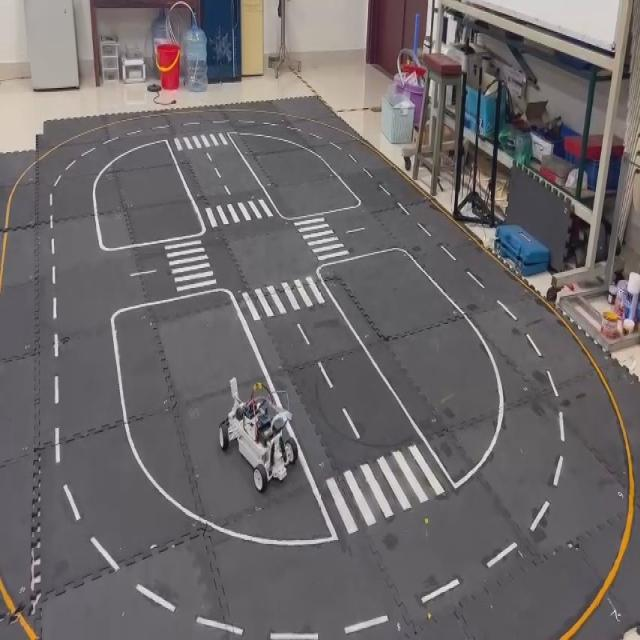SiCo-CAR: (218, 375, 298, 493)
